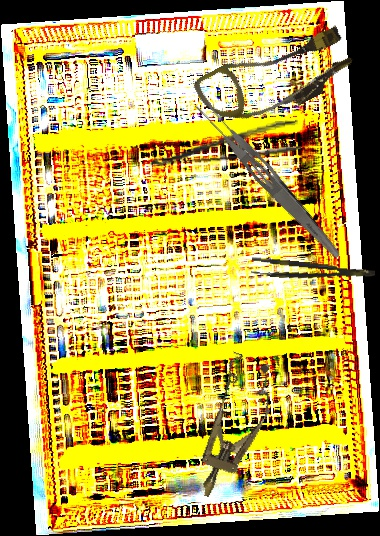Cannula: (191, 10, 361, 145)
Dressing Forceps: (191, 96, 349, 262), (146, 119, 302, 169)
Speculum: (178, 350, 286, 507)
Tissue Forceps: (250, 256, 376, 288)
